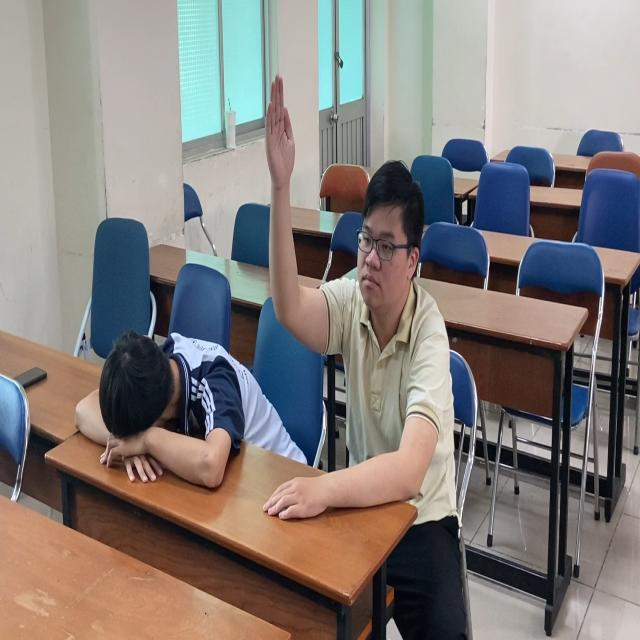raise_hand: (261, 69, 465, 564)
sleep: (52, 313, 282, 490)
